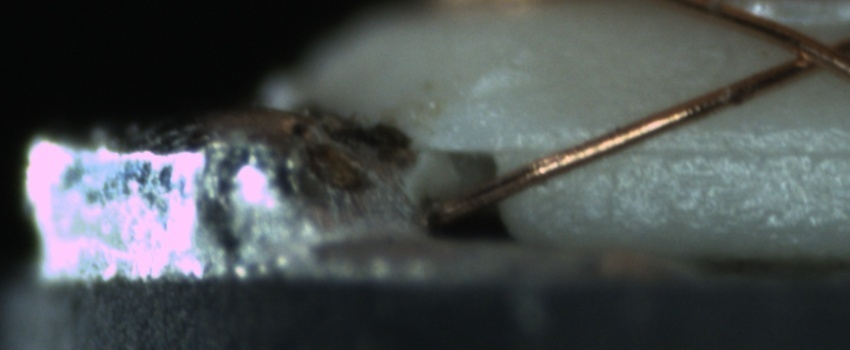CL: (774, 25, 848, 78)
DL: (539, 118, 850, 179)
